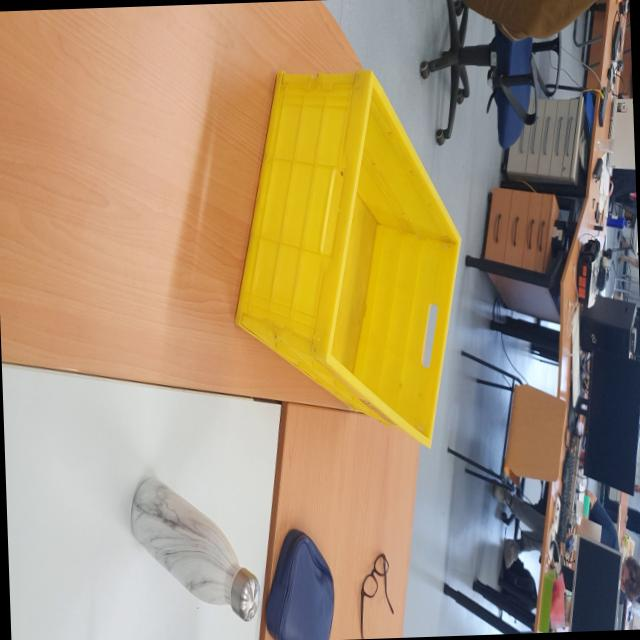box: (222, 39, 474, 480)
